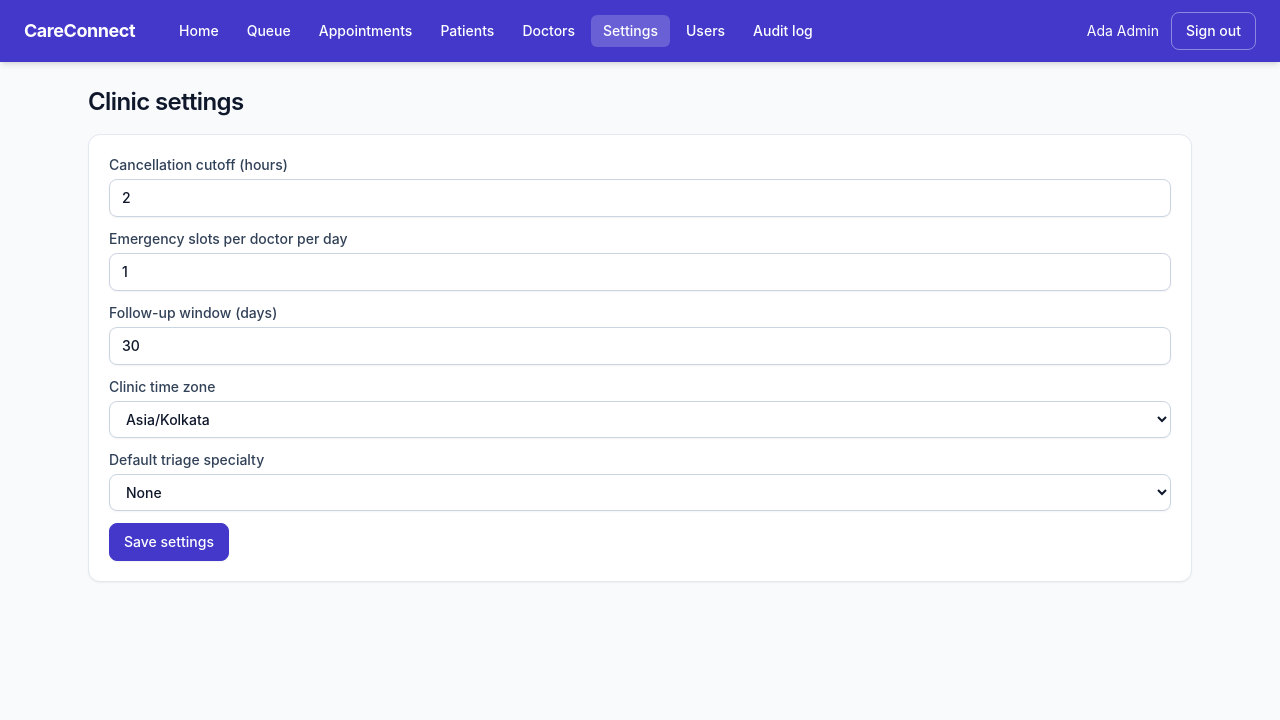
Test: Clinic settings page › shows a server-side rejection
This screenshot has width=1280, height=720.
Replace the text in the number field labelled "Follow-up window (days)" with "7" at (640, 346), box [109,327,1171,365]
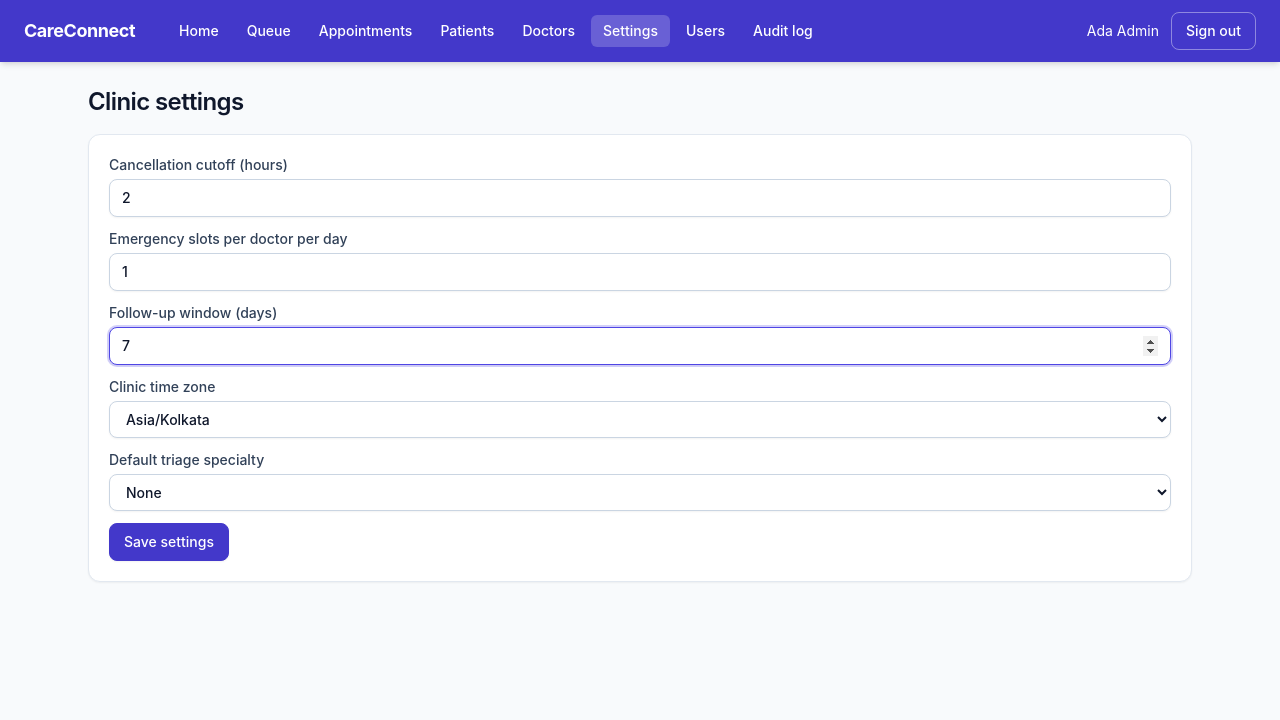
Click the button "Save settings" at (169, 542), box [109,523,229,561]
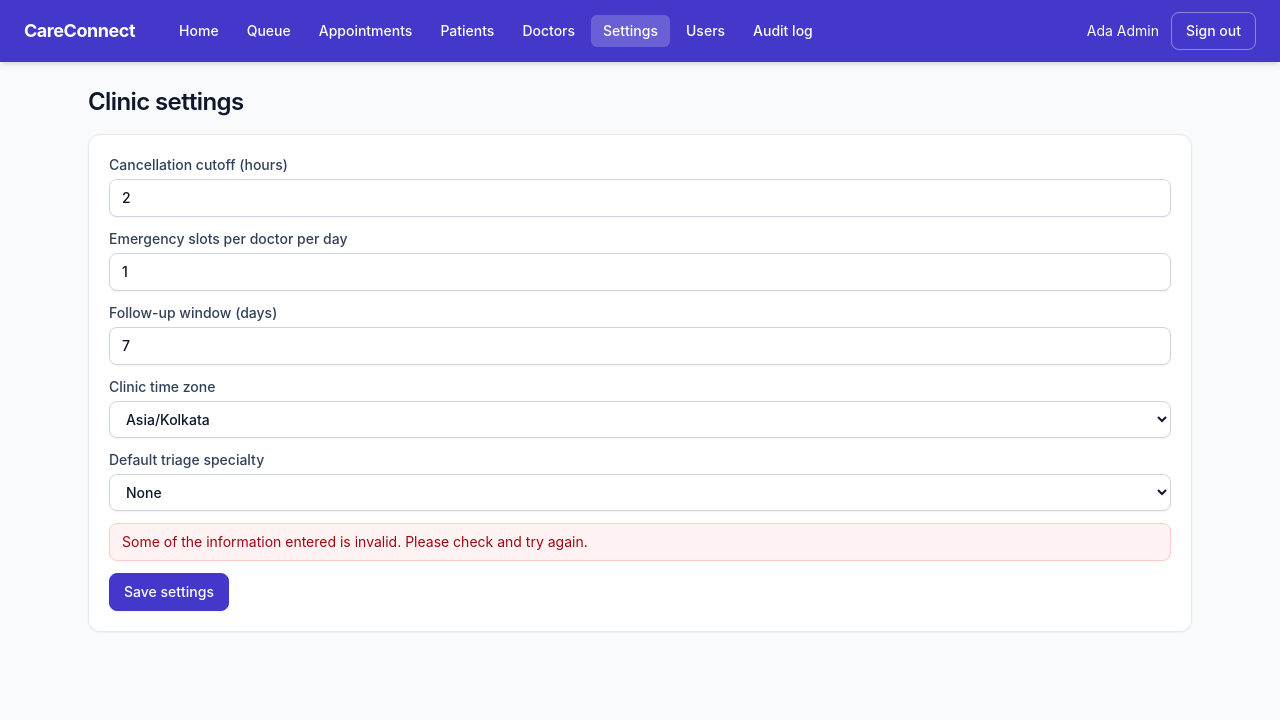
Now the message reads "Some of the information entered is invalid. Please check and try again.", box [122,533,588,550]
